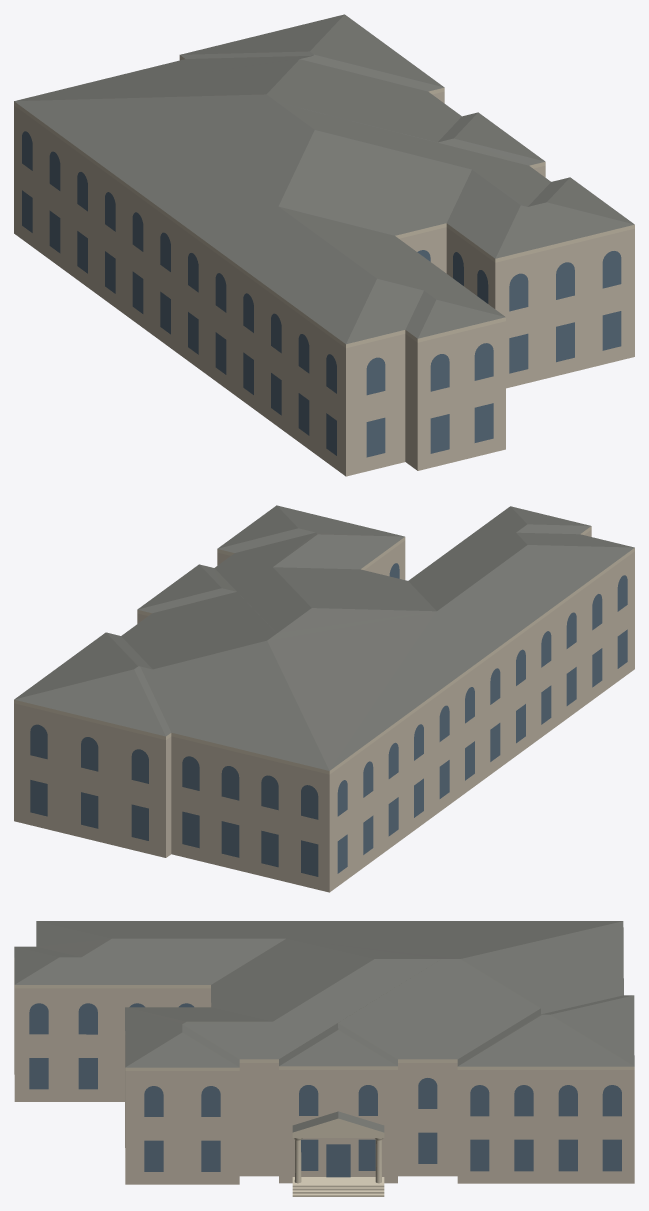
Rendered from dc-au-battelle-tompkins-memorial-building.glb.
The picture shows the model from 3 angles, top to bottom: view 1: azimuth 30°, elevation 25°; view 2: azimuth 150°, elevation 25°; view 3: azimuth 270°, elevation 25°; orthographic projection. The views are drawn at different scales.
Parts seen in each view (by area): view 1: Battelle-Tompkins Memorial Building; view 2: Battelle-Tompkins Memorial Building; view 3: Battelle-Tompkins Memorial Building.
Boxes of the visible parts, left/top/right/bottom form: Battelle-Tompkins Memorial Building: left=14, top=14, right=634, bottom=476; Battelle-Tompkins Memorial Building: left=14, top=505, right=634, bottom=892; Battelle-Tompkins Memorial Building: left=14, top=921, right=634, bottom=1196.
Size of the model in its own units: 31.2 by 13.55 by 51.49.
